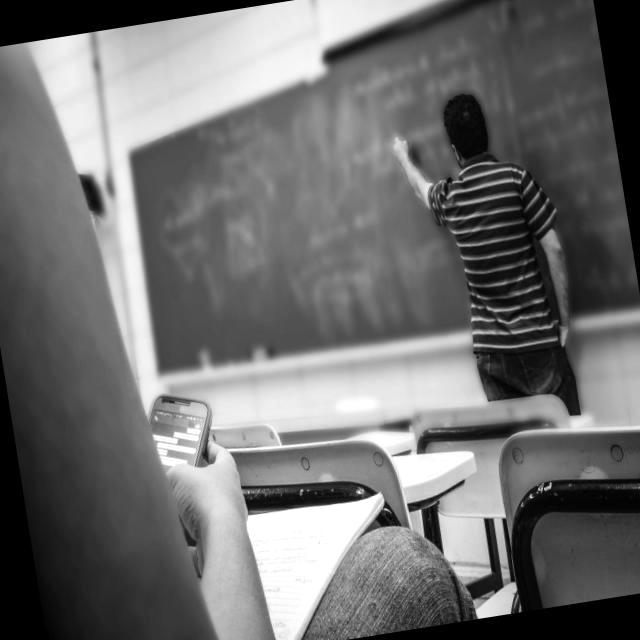phone: (144, 385, 222, 477)
